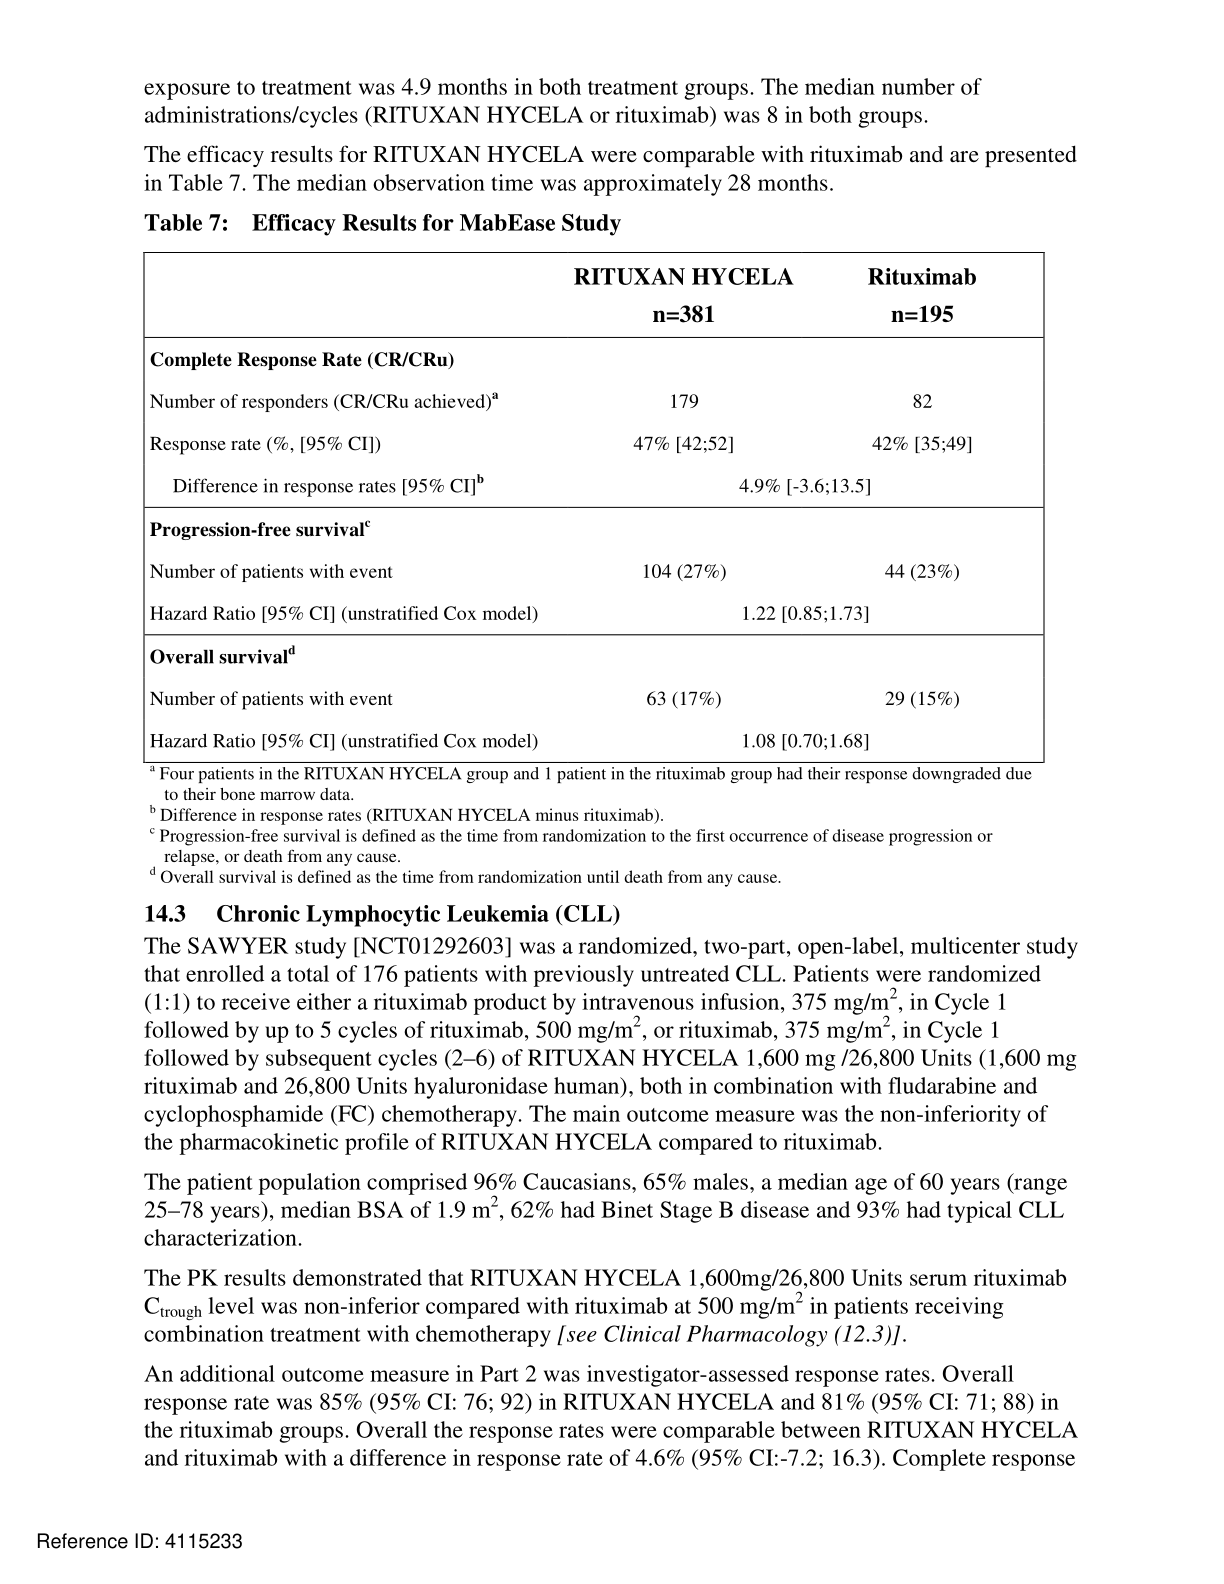partial_lined: (140, 249, 1048, 768)
